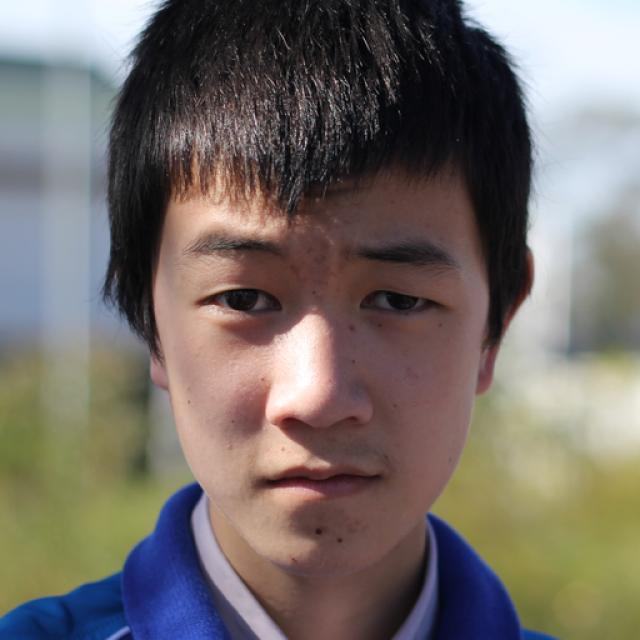sad: (162, 141, 486, 575)
